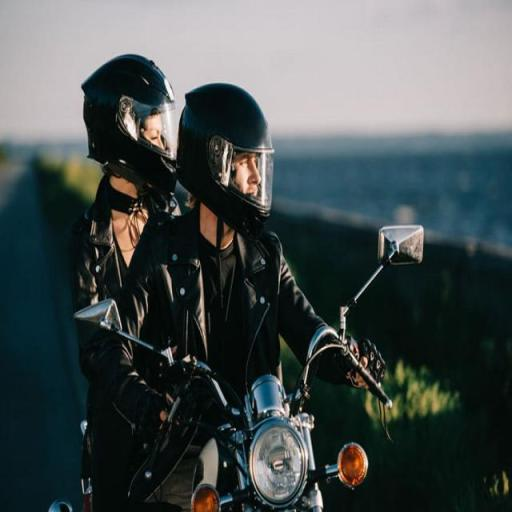Helmet: (171, 69, 286, 226), (82, 55, 186, 195)
Motor: (87, 251, 361, 512)
